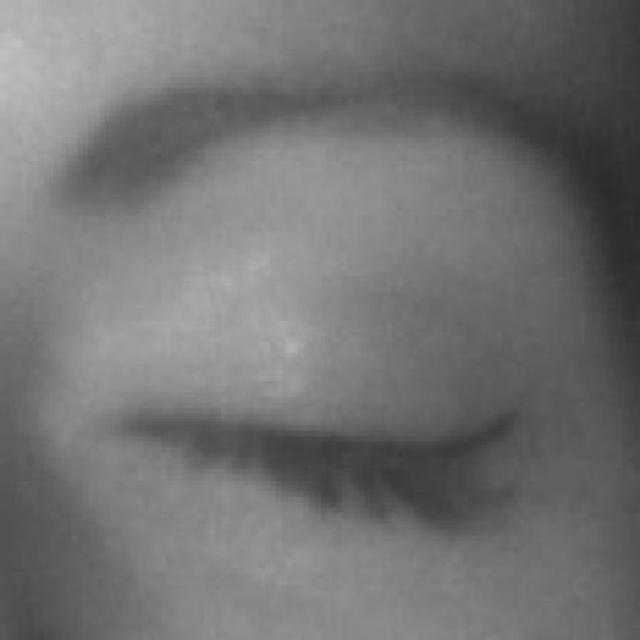drowsy: (116, 264, 518, 634)
